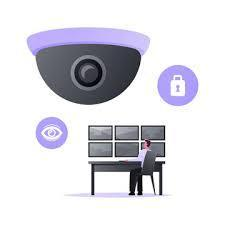maru: (34, 28, 157, 104)
